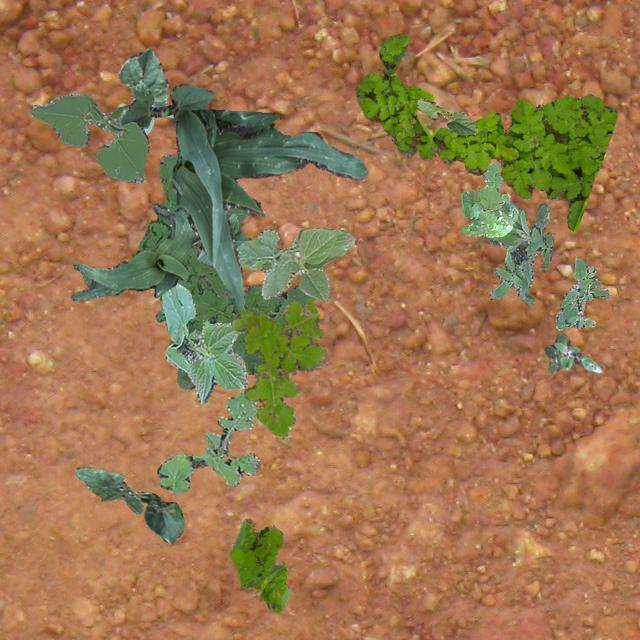crop: (170, 108, 368, 342), (70, 202, 196, 300), (29, 92, 148, 182), (160, 282, 248, 402), (234, 227, 354, 300), (74, 466, 182, 542), (116, 46, 172, 134), (119, 82, 212, 126), (197, 212, 250, 266), (416, 98, 476, 134)
weed: (354, 32, 616, 230), (133, 153, 314, 390), (230, 297, 326, 438), (156, 390, 260, 492), (487, 200, 552, 306), (228, 518, 288, 612), (459, 162, 516, 236), (554, 256, 610, 330), (544, 332, 600, 373)
